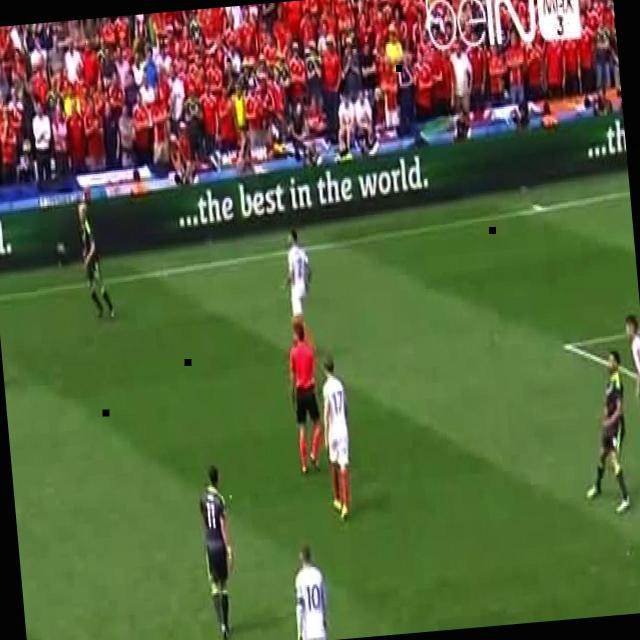player-white: (574, 349, 636, 517), (195, 463, 239, 640), (317, 356, 358, 522), (285, 323, 327, 479), (279, 227, 317, 357), (76, 199, 115, 318), (289, 538, 329, 640), (623, 311, 640, 483)
